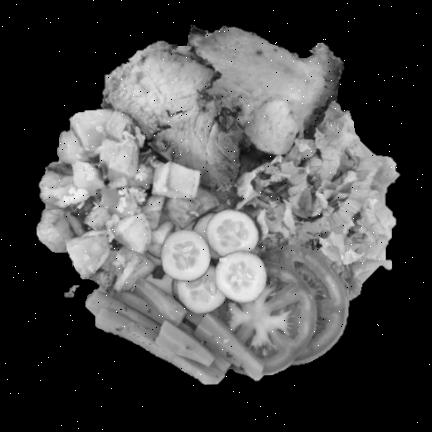carrot: (85, 279, 263, 384)
cucumber: (160, 210, 265, 314)
meat: (103, 28, 341, 190)
potato: (37, 111, 217, 289)
salad: (224, 103, 396, 298)
tomato: (217, 245, 347, 375)
